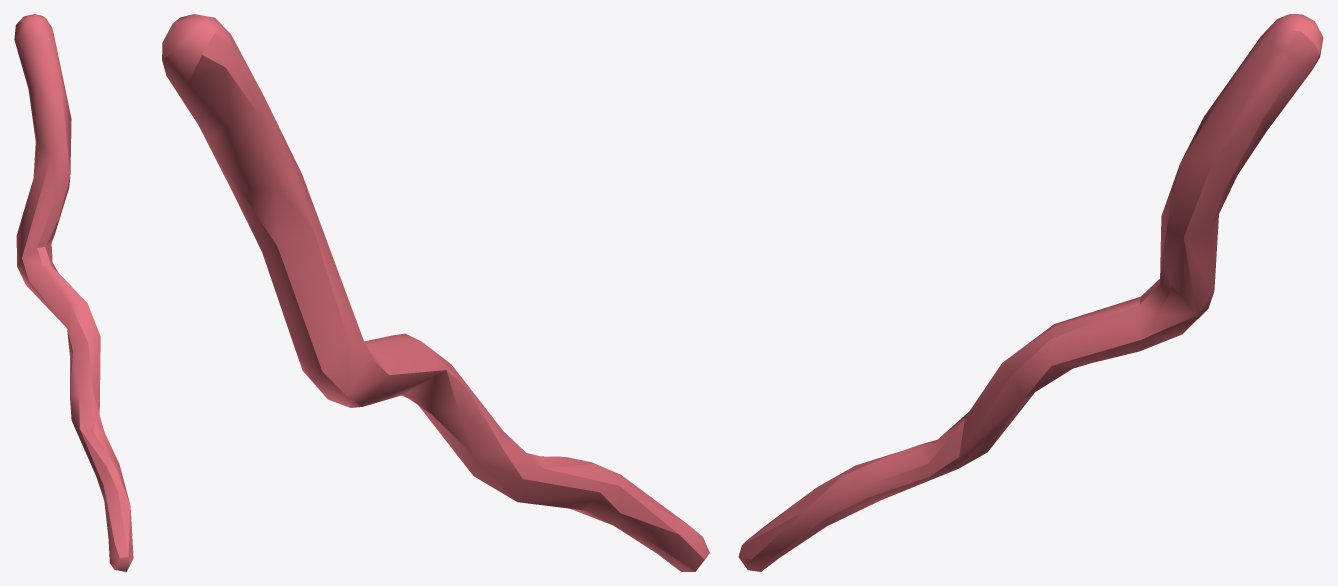
The model's file is fma3895_fj2653.glb.
3 views of the same model, side by side, from view 1: azimuth 30°, elevation 25°; view 2: azimuth 150°, elevation 25°; view 3: azimuth 270°, elevation 25° (orthographic). The views are drawn at different scales.
Parts seen in each view (by area): view 1: FMA3895_FJ2653; view 2: FMA3895_FJ2653; view 3: FMA3895_FJ2653.
Boxes of the visible parts, x1,y1,x2,y2 form: FMA3895_FJ2653: (14, 14, 133, 571); FMA3895_FJ2653: (162, 14, 709, 571); FMA3895_FJ2653: (738, 14, 1323, 571).
Size of the model in its own units: 0.00309 by 0.0103 by 0.00886.
